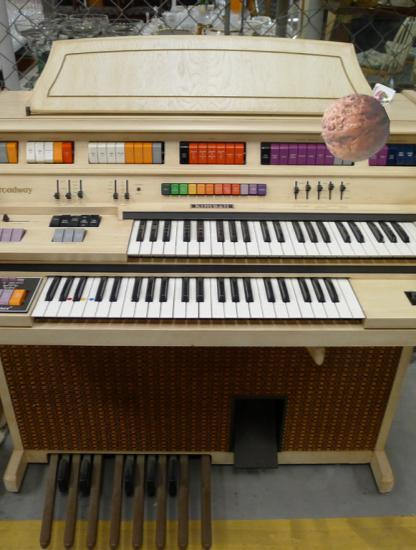Walnut: (320, 93, 391, 164)
